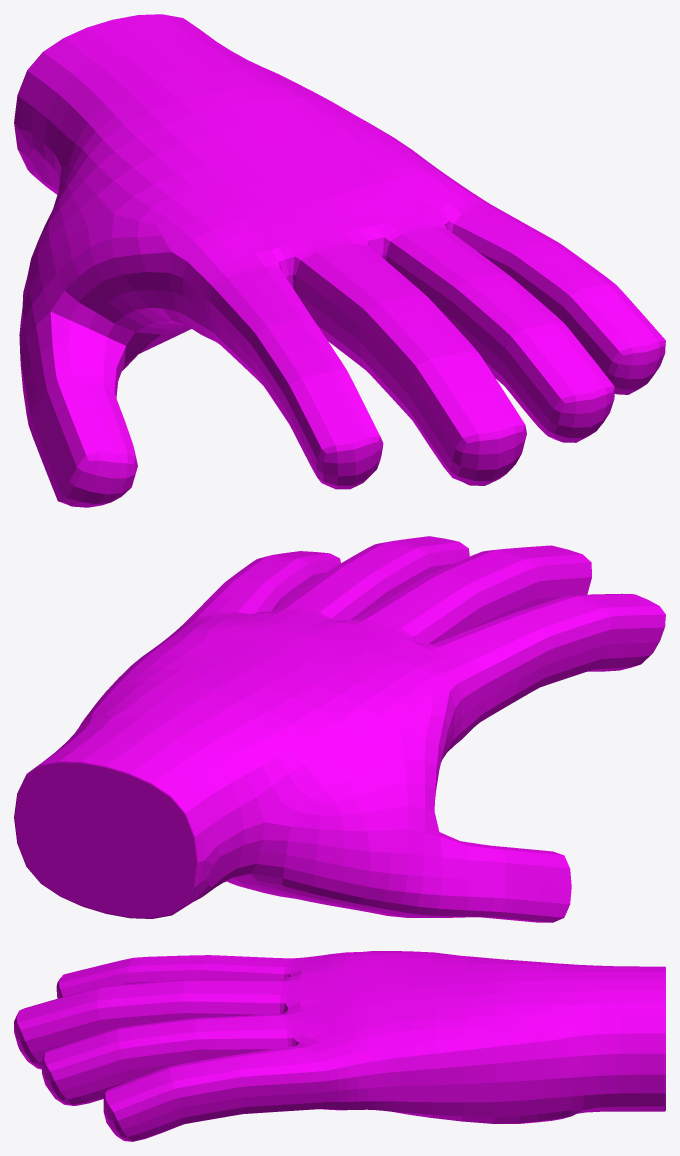
File: hand_test_1_L.fbx
3 renders of one model, top to bottom at view 1: azimuth 30°, elevation 25°; view 2: azimuth 150°, elevation 25°; view 3: azimuth 270°, elevation 25°, orthographic. The views are drawn at different scales.
Parts seen in each view (by area): view 1: hand; view 2: hand; view 3: hand.
Part boxes in pixels (left/top/right/bottom): hand: left=14, top=14, right=665, bottom=507; hand: left=14, top=536, right=665, bottom=922; hand: left=14, top=951, right=665, bottom=1141.
Bounding box in the file's own units: 127 × 71.46 × 214.
